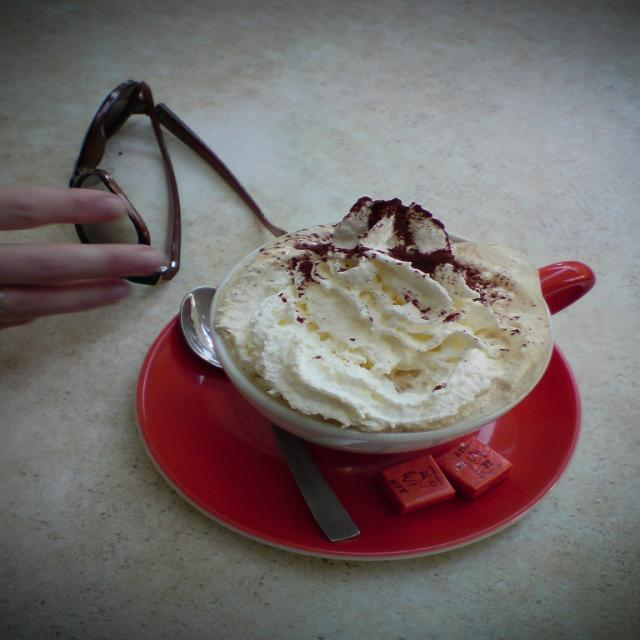Coffee: (214, 190, 562, 437)
